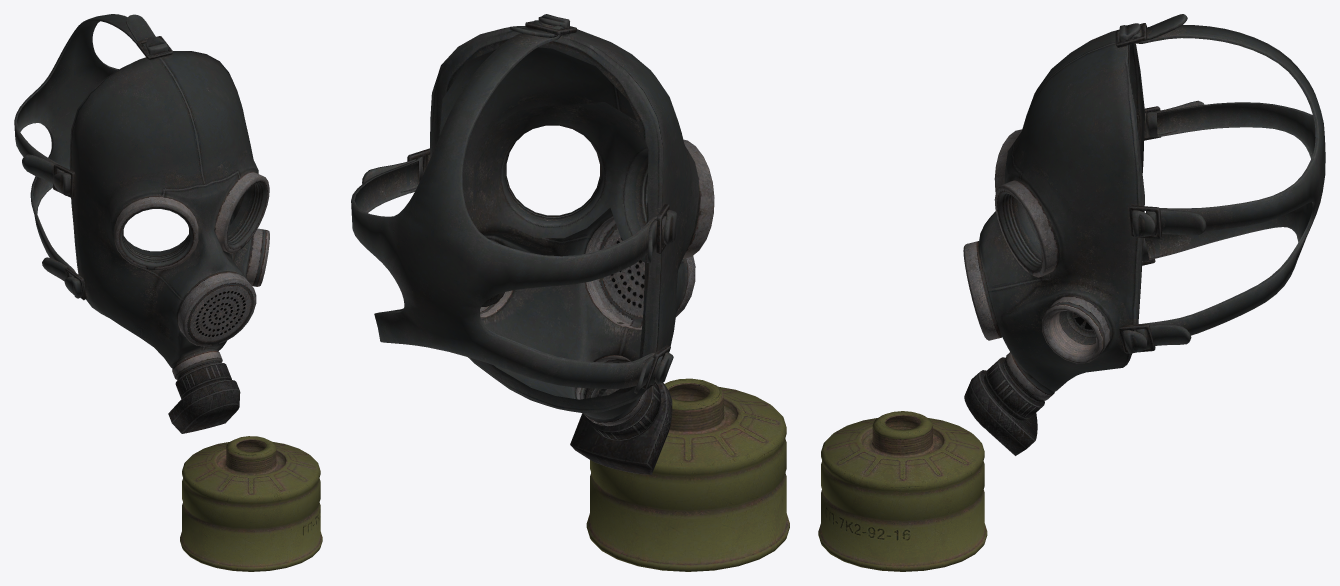
Rendered from mask_gp7.FBX.
The picture shows the model from 3 angles, left to right: view 1: azimuth 30°, elevation 25°; view 2: azimuth 150°, elevation 25°; view 3: azimuth 270°, elevation 25°; orthographic projection. The views are drawn at different scales.
Visible parts, largest first — view 1: so_ammunition_mask_gp7, so_ammunition_mask_gp7a; view 2: so_ammunition_mask_gp7, so_ammunition_mask_gp7a; view 3: so_ammunition_mask_gp7, so_ammunition_mask_gp7a.
Part boxes in pixels (x1,y1,x2,y2): so_ammunition_mask_gp7: (14,14,269,433); so_ammunition_mask_gp7a: (180,436,322,571); so_ammunition_mask_gp7: (351,14,714,474); so_ammunition_mask_gp7a: (586,378,789,571); so_ammunition_mask_gp7: (963,14,1325,455); so_ammunition_mask_gp7a: (818,411,987,571).
Bounding box in the file's own units: 188 × 387 × 342.
